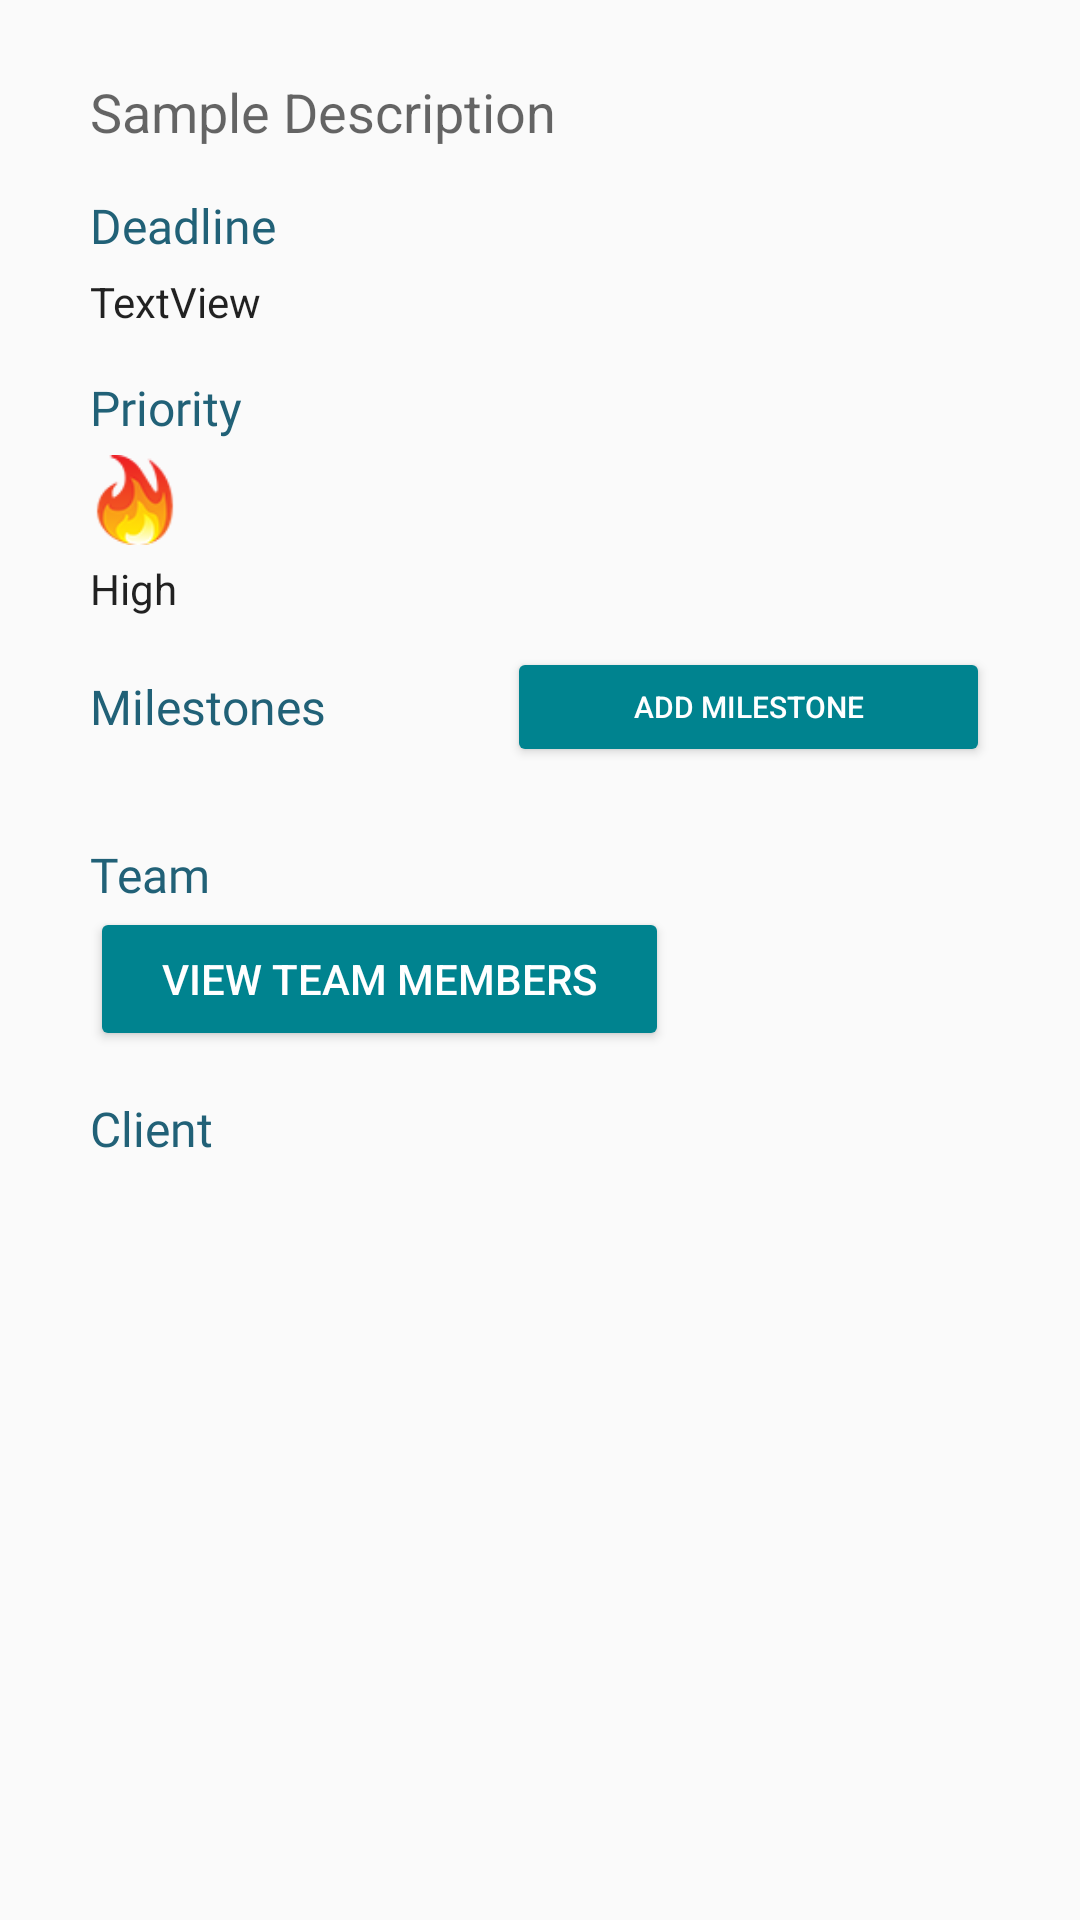

Locate icon controls on the screen. Image size 1080w x 1920h, boxes as (x1, y1, x2, y2).
fire: (97, 455, 173, 545)
